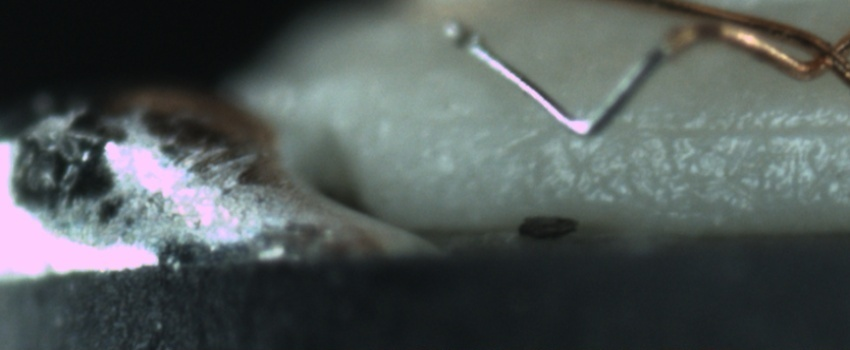DL: (445, 101, 849, 150)
